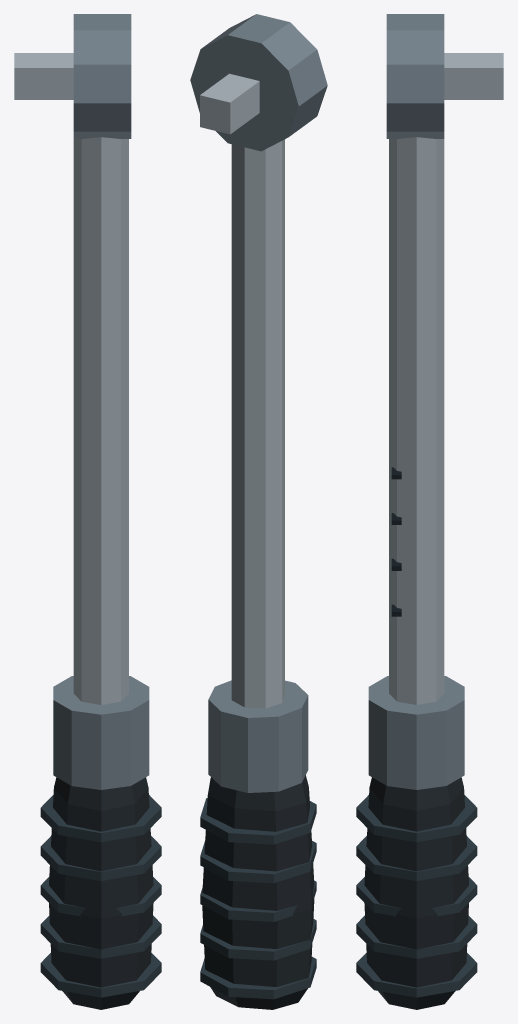
Rendered from b06_torque_wrench.glb.
The picture shows the model from 3 angles, left to right: view 1: azimuth 90°, elevation 25°; view 2: azimuth 150°, elevation 25°; view 3: azimuth 270°, elevation 25°; orthographic projection.
Visible parts, largest first — view 1: b06_torque_wrench; view 2: b06_torque_wrench; view 3: b06_torque_wrench.
Boxes of the visible parts, x1,y1,x2,y2 form: b06_torque_wrench: (14, 14, 161, 1009); b06_torque_wrench: (190, 14, 327, 1009); b06_torque_wrench: (356, 14, 503, 1009).
Bounding box in the file's own units: 0.05 × 0.4238 × 0.0585.
